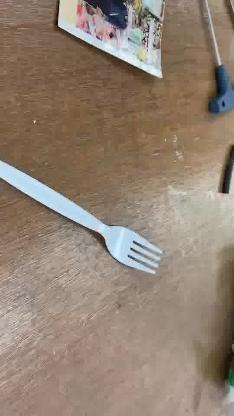Others: (0, 159, 164, 277)
